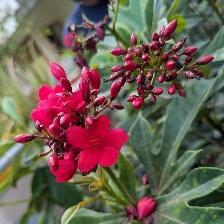jatropha: (67, 119, 132, 174)
